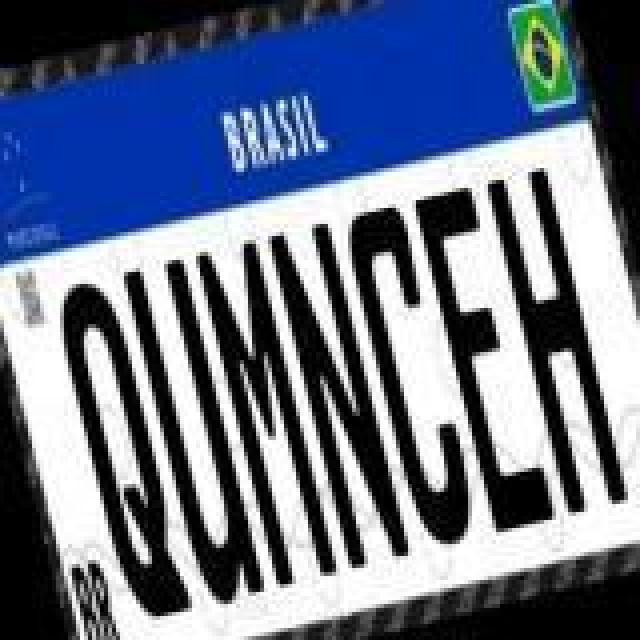C: (344, 198, 488, 554)
E: (416, 184, 560, 536)
H: (484, 164, 628, 516)
M: (194, 238, 342, 594)
N: (268, 218, 412, 574)
Q: (46, 274, 194, 630)
U: (118, 256, 266, 608)
